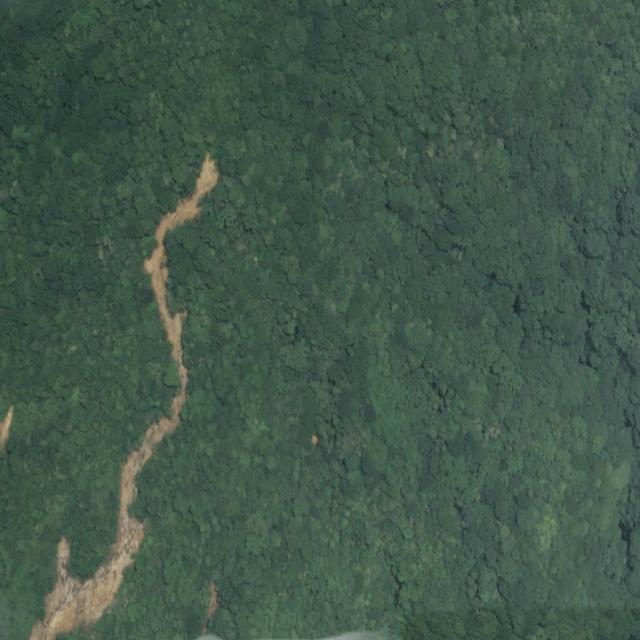landslide: (29, 153, 219, 640), (0, 406, 12, 452)
